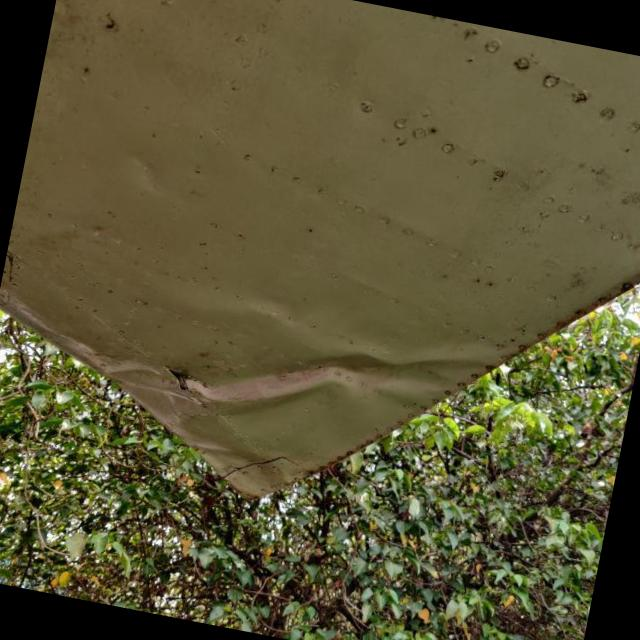Crack: (167, 369, 202, 395)
Dent: (179, 334, 506, 463), (0, 290, 178, 405), (180, 433, 324, 497)
